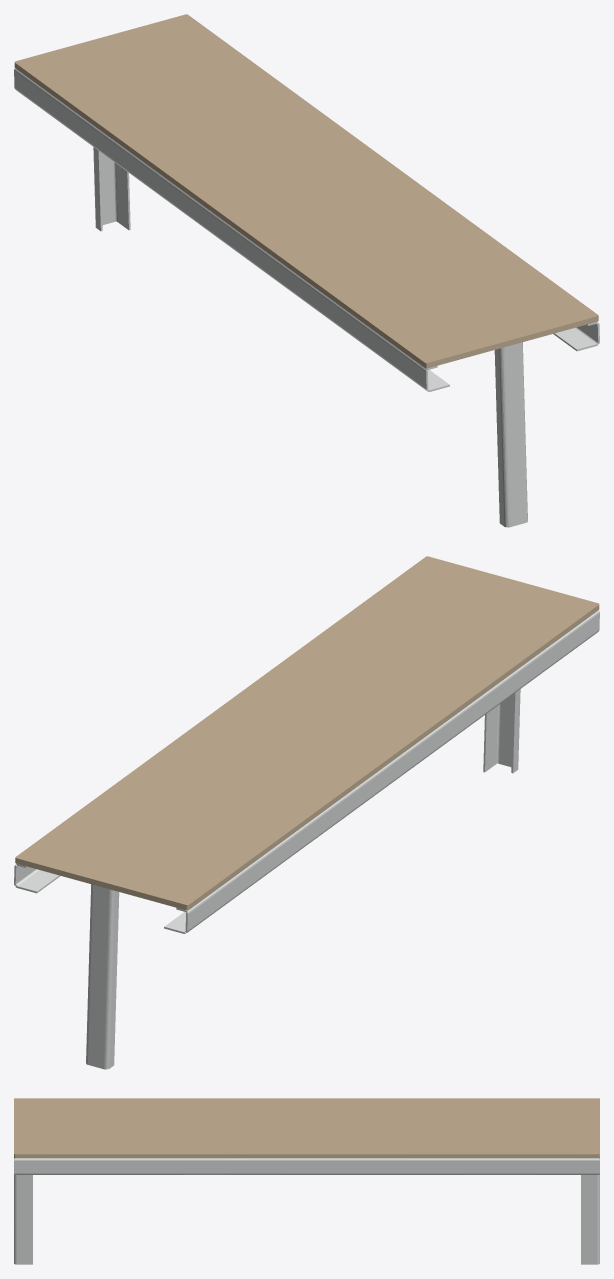
Rendered from removable-bench-400.glb.
The picture shows the model from 3 angles, top to bottom: view 1: azimuth 30°, elevation 25°; view 2: azimuth 150°, elevation 25°; view 3: azimuth 270°, elevation 25°; orthographic projection. The views are drawn at different scales.
Parts seen in each view (by area): view 1: xs_bench400_top, xs_bench400_frame; view 2: xs_bench400_top, xs_bench400_frame; view 3: xs_bench400_top, xs_bench400_frame.
Boxes of the visible parts, x1,y1,x2,y2 form: xs_bench400_top: (14,14,598,368); xs_bench400_frame: (14,68,599,527); xs_bench400_top: (15,556,599,910); xs_bench400_frame: (14,610,599,1069); xs_bench400_top: (14,1098,599,1158); xs_bench400_frame: (14,1158,599,1264).
Size of the model in its own units: 0.3012 by 0.314 by 1.23.
